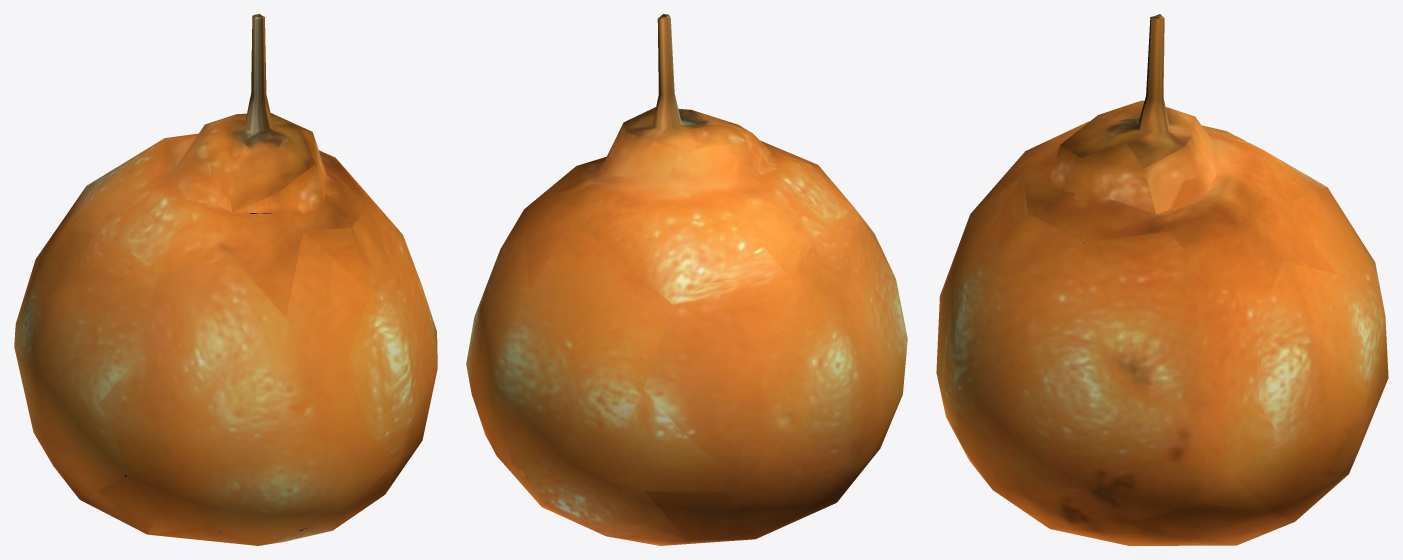
3 renders of one model, left to right at view 1: azimuth 30°, elevation 25°; view 2: azimuth 150°, elevation 25°; view 3: azimuth 270°, elevation 25°, orthographic. The views are drawn at different scales.
Parts seen in each view (by area): view 1: 72_orange; view 2: 72_orange; view 3: 72_orange.
Boxes of the visible parts, x1=… form: 72_orange: x1=14, y1=14, x2=437, y2=545; 72_orange: x1=466, y1=14, x2=907, y2=545; 72_orange: x1=936, y1=14, x2=1388, y2=545.
Size of the model in its own units: 98.73 by 122 by 99.84.
1 material, 1 textured.
